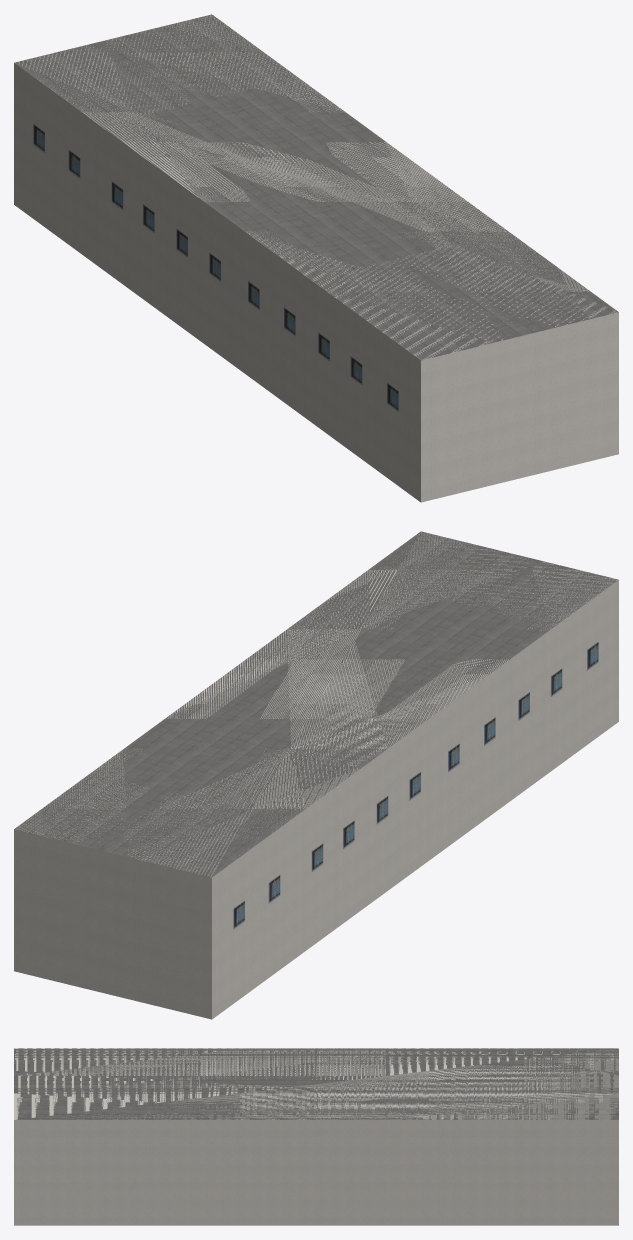
File: techniEntryBldg2.dae
3 renders of one model, top to bottom at view 1: azimuth 30°, elevation 25°; view 2: azimuth 150°, elevation 25°; view 3: azimuth 270°, elevation 25°, orthographic. The views are drawn at different scales.
Parts seen in each view (by area): view 1: group_0 (×2); view 2: group_0 (×2); view 3: group_0 (×2).
Part boxes in pixels (bbox=[...]): group_0 (×2): bbox=[14, 14, 618, 502]; group_0 (×2): bbox=[14, 531, 618, 1019]; group_0 (×2): bbox=[14, 1048, 618, 1225].
Size of the model in its own units: 388 by 1374 by 265.
3 materials, 3 textured.
